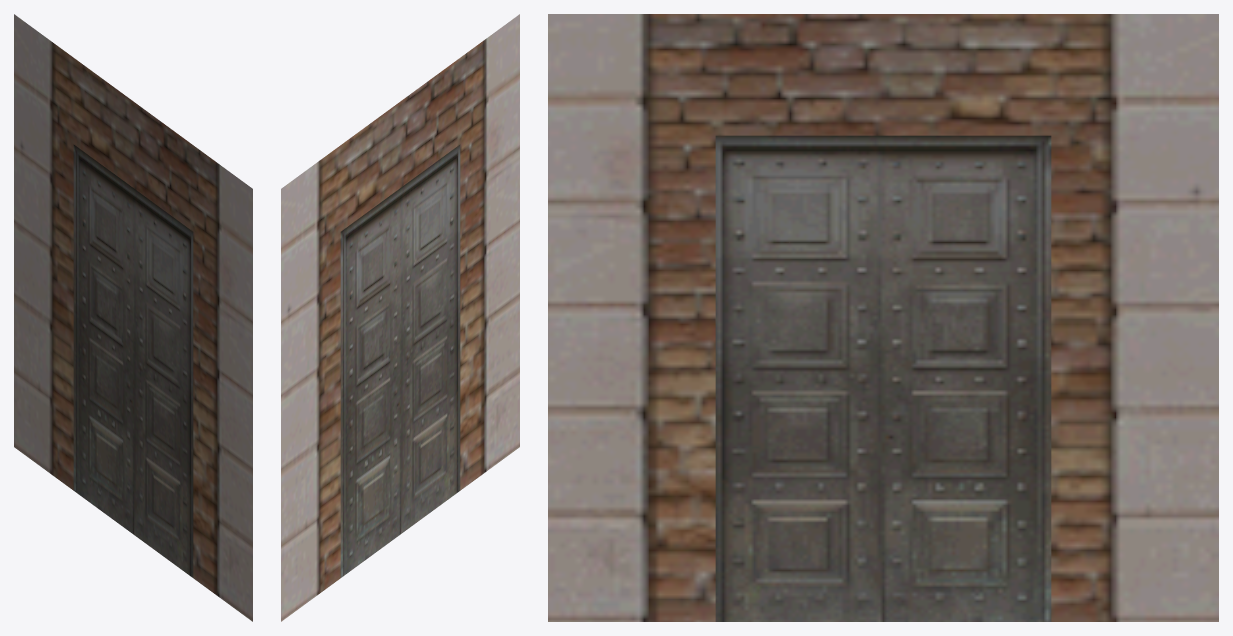
The model's file is Urban_FancyBrickWallMetalDoor_Model.fbx.
The picture shows the model from 3 angles, left to right: view 1: azimuth 30°, elevation 25°; view 2: azimuth 150°, elevation 25°; view 3: azimuth 270°, elevation 25°; orthographic projection. The views are drawn at different scales.
Visible parts, largest first — view 1: Urban_FancyBrickWallMetalDoor_Mesh; view 2: Urban_FancyBrickWallMetalDoor_Mesh; view 3: Urban_FancyBrickWallMetalDoor_Mesh.
Part boxes in pixels (x1=…): Urban_FancyBrickWallMetalDoor_Mesh: x1=14, y1=14, x2=252, y2=621; Urban_FancyBrickWallMetalDoor_Mesh: x1=281, y1=14, x2=519, y2=621; Urban_FancyBrickWallMetalDoor_Mesh: x1=548, y1=14, x2=1218, y2=621.
Bounding box in the file's own units: 0 × 2.1 × 2.1.
